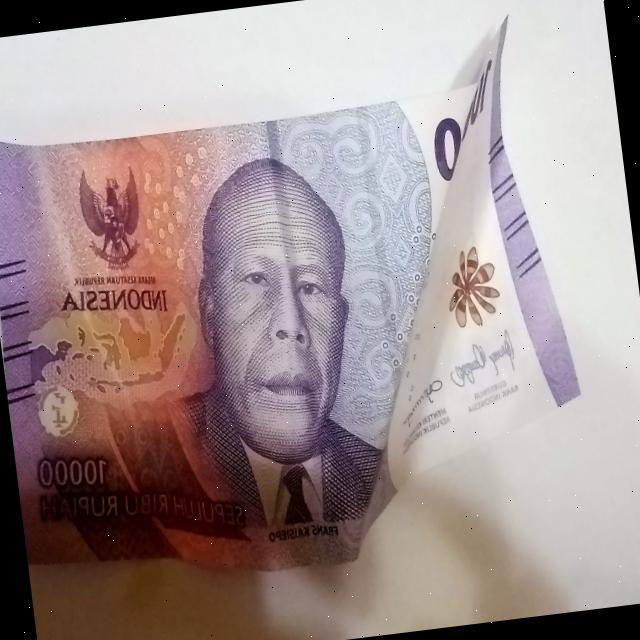10K: (0, 11, 604, 619)
